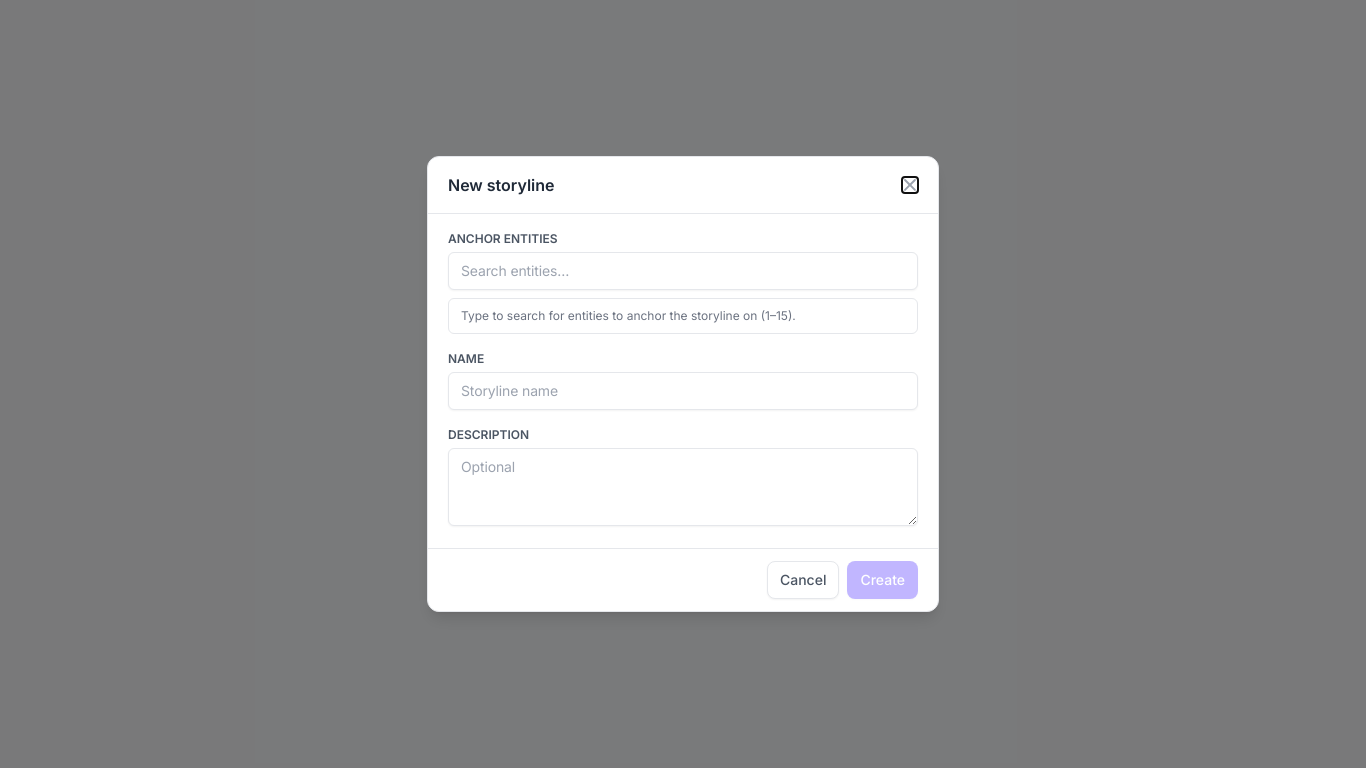
Test: StorylineCreateModal › picking an entity auto-fills the name field and shows the picked chip
In the search field with test id "storyline-entity-search": (683,271) [448,252,918,290], type "bo"
Wait 260 ms
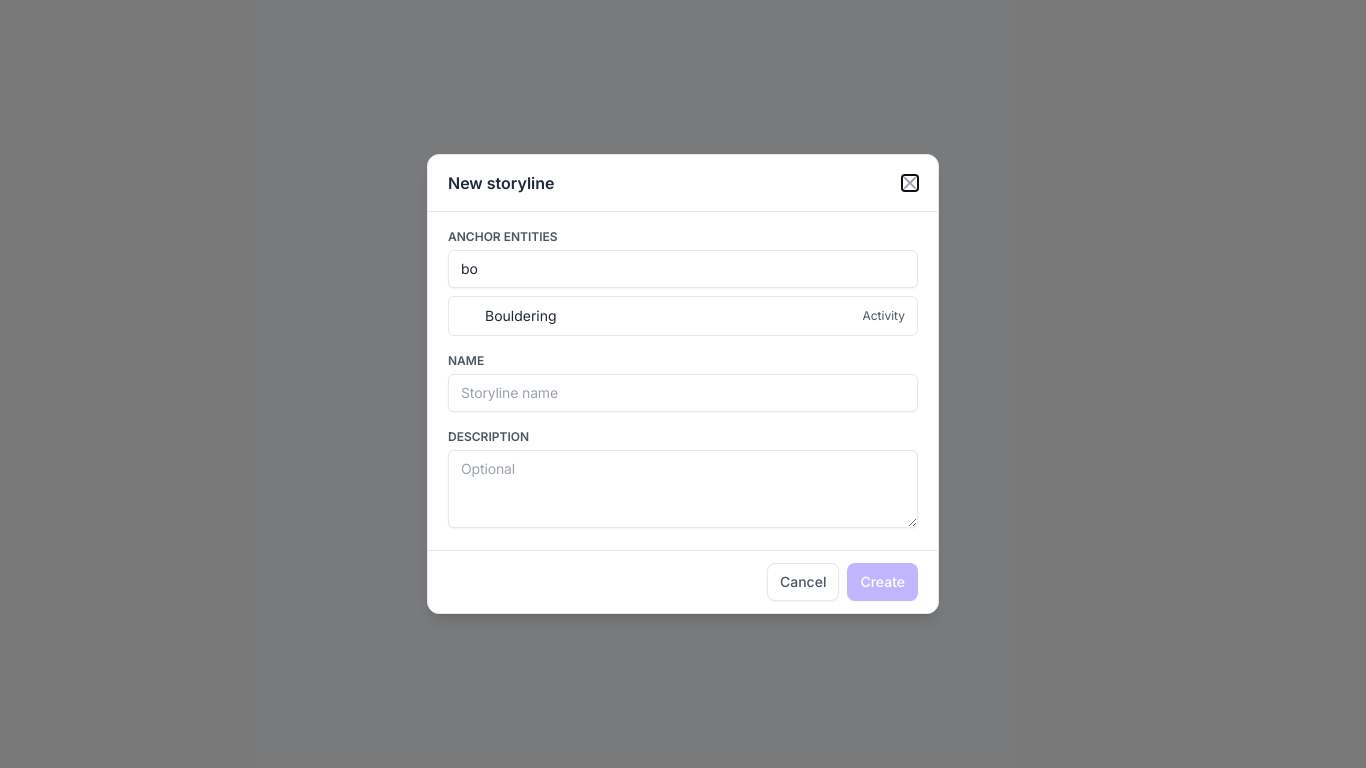
Click the list item with test id "storyline-entity-result": (521,316) [485,307,905,324]
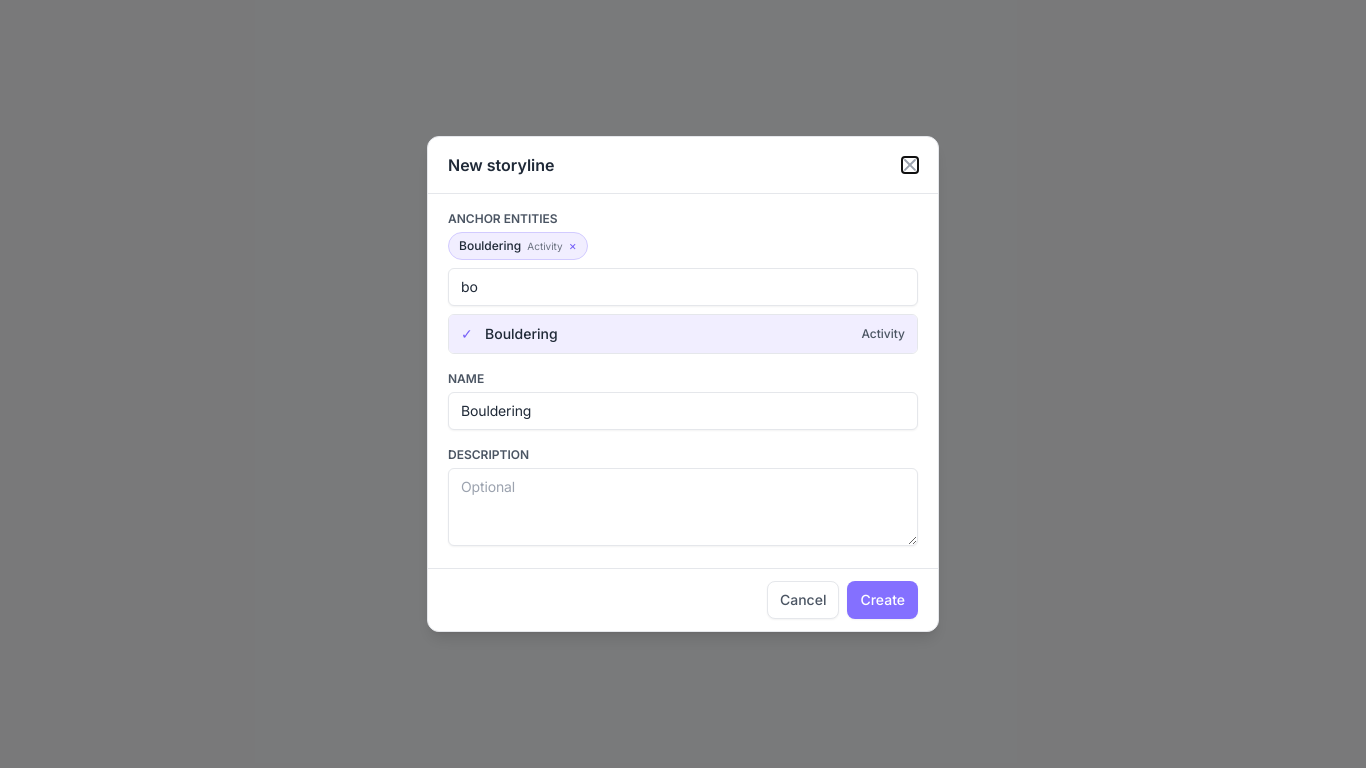
Expected: the number of elements with test id "storyline-picked-chip" is 1, [448,232,588,260]
Expected: the field with test id "storyline-create-name" holds "Bouldering", [448,392,918,430]
